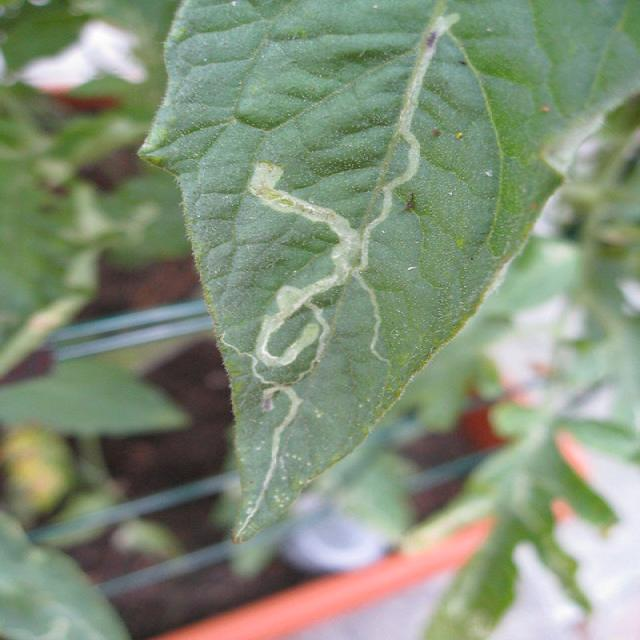Tomato target spot leaf: (137, 0, 640, 547)
